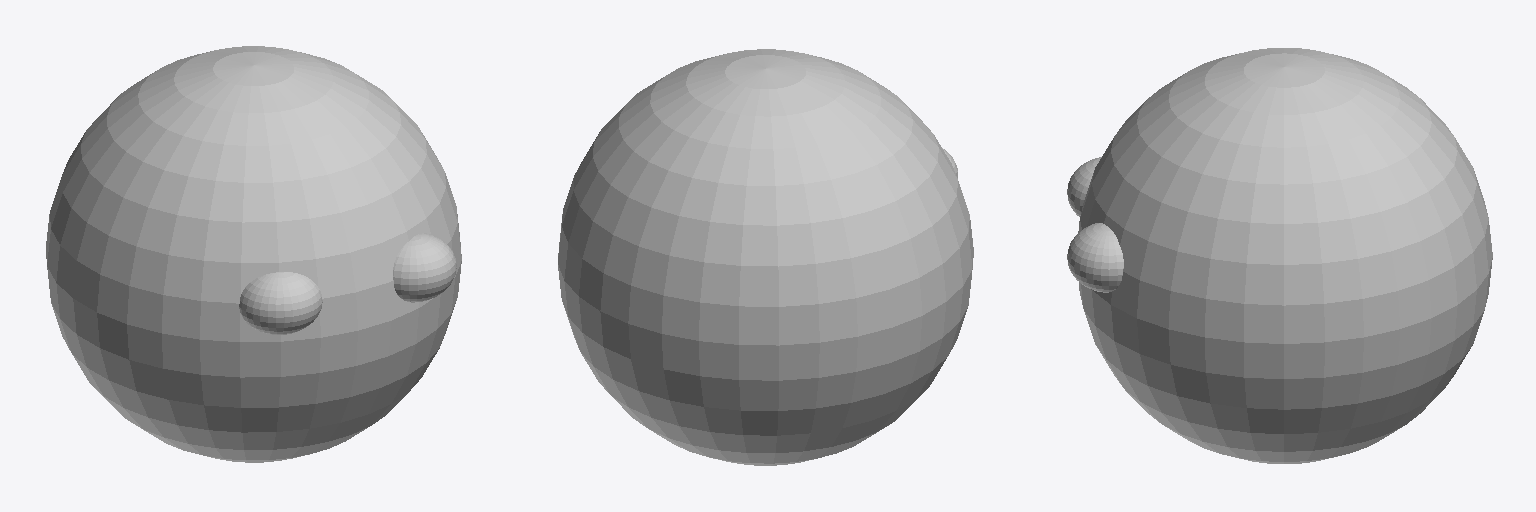
The model's file is PlayerHead.obj.
The picture shows the model from 3 angles: view 1: azimuth 30°, elevation 25°; view 2: azimuth 150°, elevation 25°; view 3: azimuth 270°, elevation 25°; orthographic projection.
Visible parts, largest first — view 1: 球.002; view 2: 球.002; view 3: 球.002.
Part boxes in pixels (bbox=[...]): 球.002: bbox=[46, 46, 461, 462]; 球.002: bbox=[558, 49, 973, 465]; 球.002: bbox=[1067, 48, 1492, 463].
Bounding box in the file's own units: 0.8837 × 0.8837 × 0.9021.